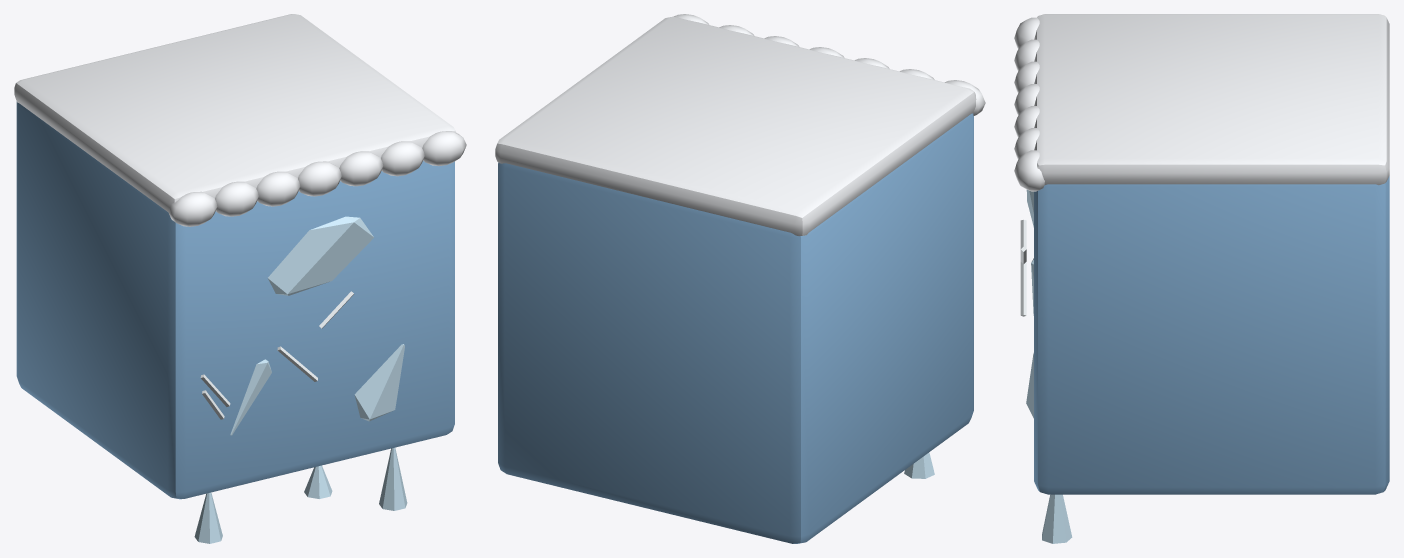
File: tile_ice.glb
3 views of the same model, side by side, from view 1: azimuth 30°, elevation 25°; view 2: azimuth 150°, elevation 25°; view 3: azimuth 270°, elevation 25° (orthographic). The views are drawn at different scales.
Visible parts, largest first — view 1: tile_ice; view 2: tile_ice; view 3: tile_ice.
Part boxes in pixels (x1,y1,x2,y2): tile_ice: (14,14,466,543); tile_ice: (495,14,985,543); tile_ice: (1014,14,1389,543).
Bounding box in the file's own units: 0.5081 × 0.615 × 0.517.
